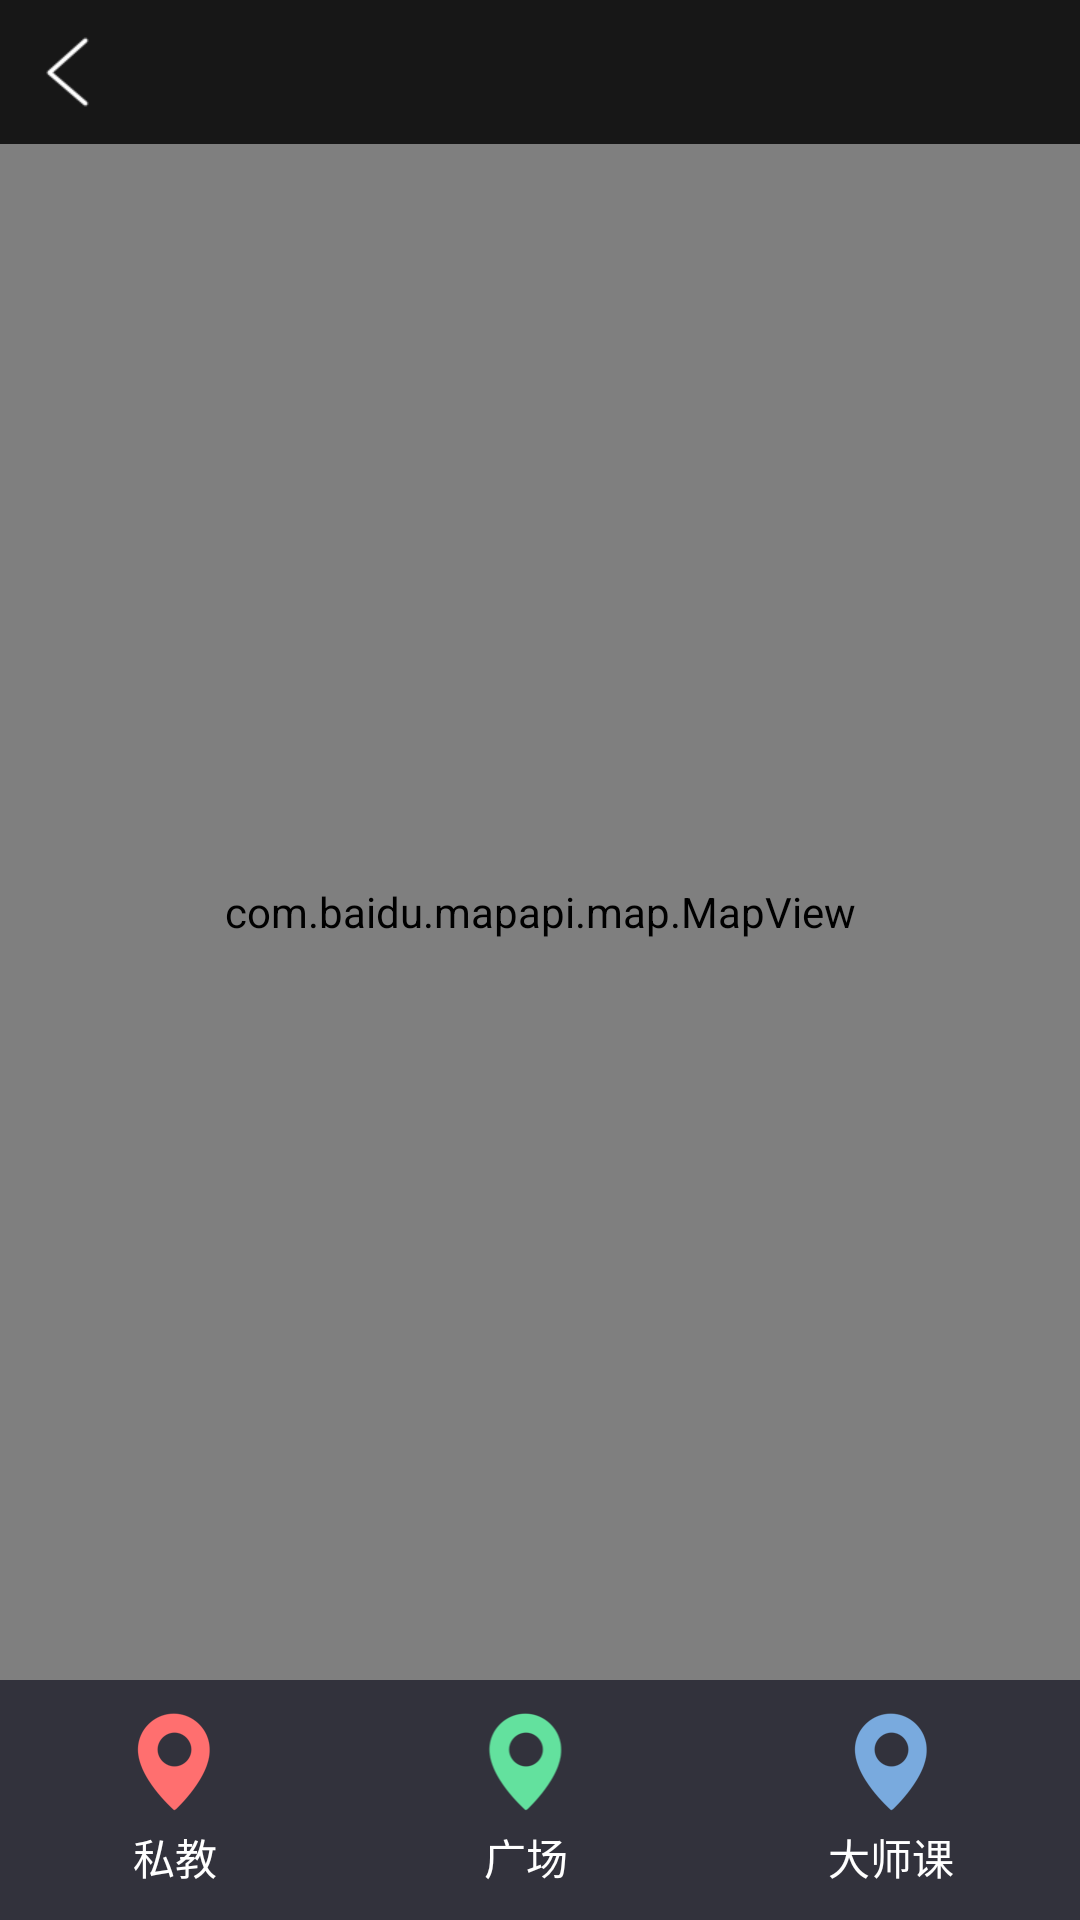

Named icons in this screenshot (1080w x 1920h) and their bounding boxes, (x1, y1, x2, y2):
titlebar back: (46, 37, 89, 107)
